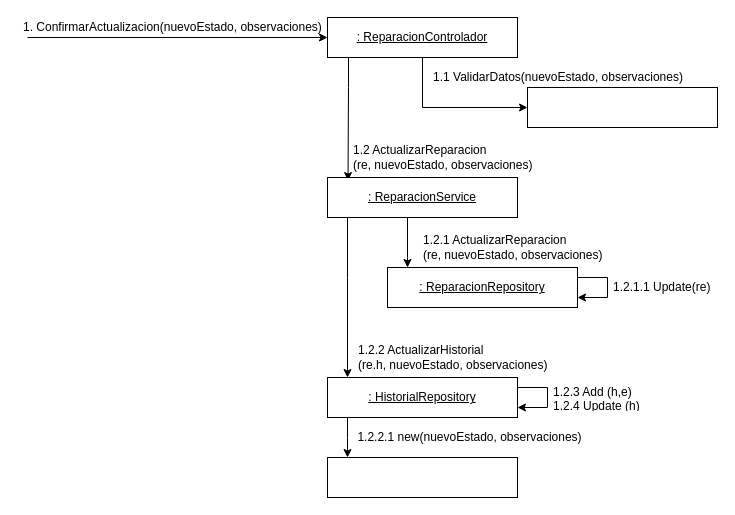
Some shapes in this 735 by 515 pixel diagram are drawn without their labels. The centre of each missing label's shape, as x and y in pixels:
: ValidatorService: the point at 622,107
e : Entrada: the point at 422,477
